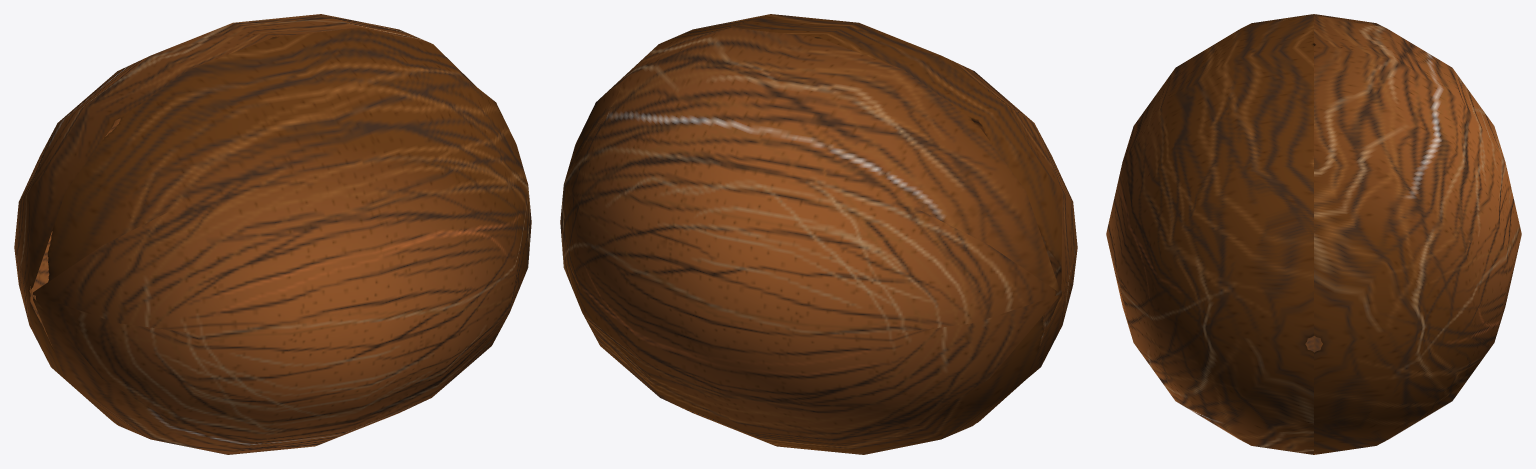
Rendered from Coconut.FBX.
3 views of the same model, side by side, from view 1: azimuth 30°, elevation 25°; view 2: azimuth 150°, elevation 25°; view 3: azimuth 270°, elevation 25° (orthographic). The views are drawn at different scales.
Visible parts, largest first — view 1: Coconut; view 2: Coconut; view 3: Coconut.
Part boxes in pixels (x1,y1,x2,y2): Coconut: (14, 14, 531, 454); Coconut: (560, 14, 1077, 454); Coconut: (1106, 14, 1521, 454).
Bounding box in the file's own units: 32.48 × 25.51 × 25.3.
